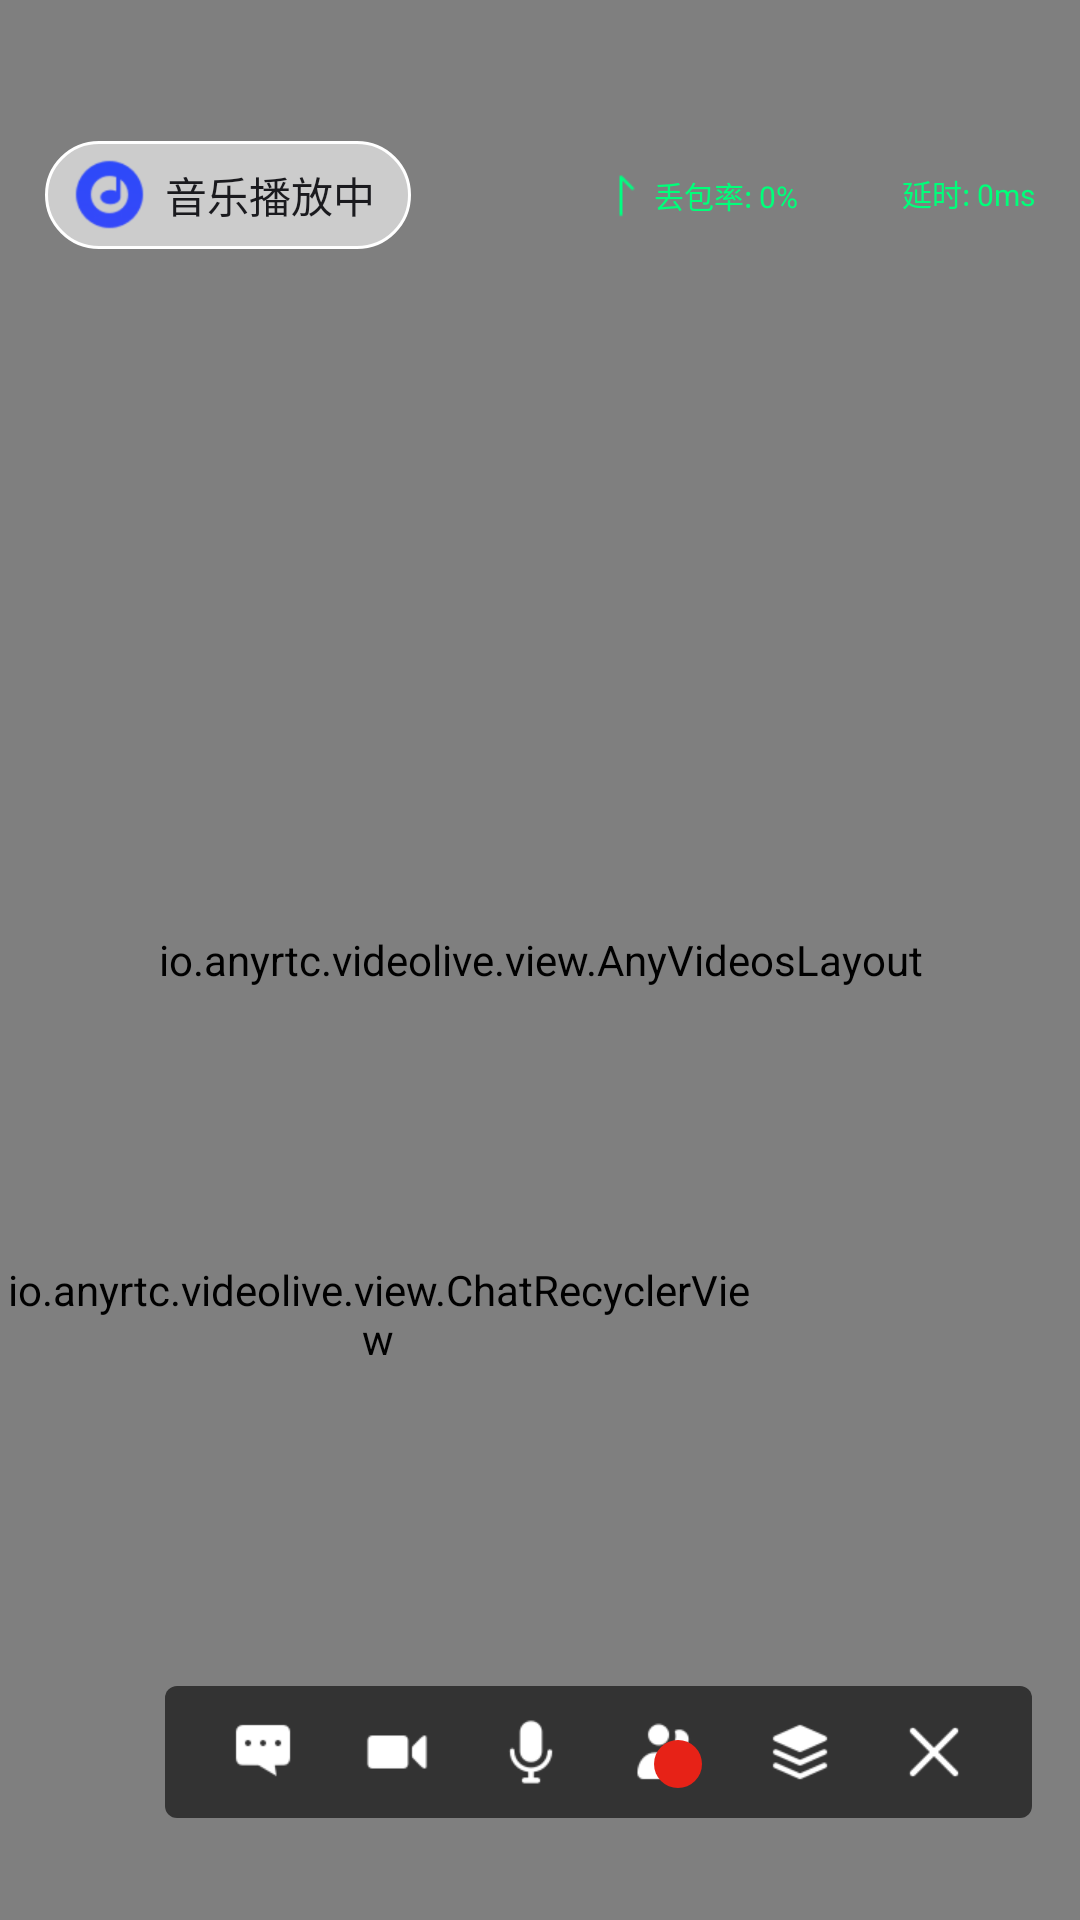

Icon click points for this 1080 x 1920 phone screenshot, format [x,y]:
checkbox video: [397,1752]
checkbox voice: [531,1752]
host chat: [263,1750]
host leave: [934,1752]
